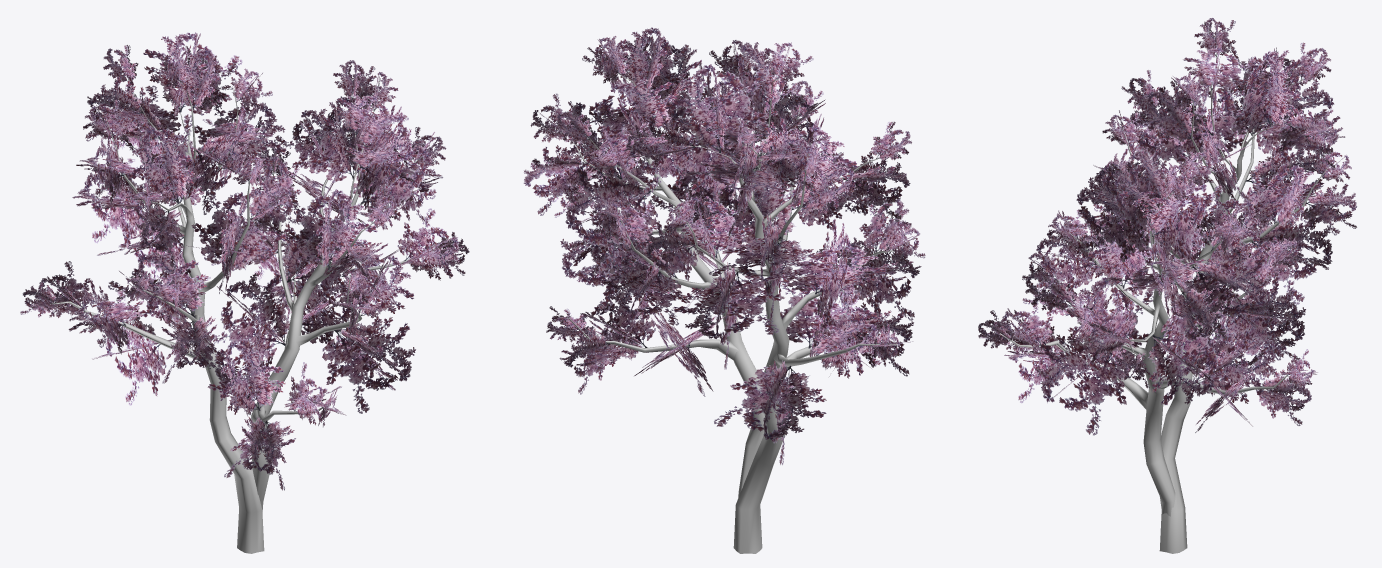
The model's file is TreeWaxCherry-red2.fbx.
The picture shows the model from 3 angles, left to right: view 1: azimuth 30°, elevation 25°; view 2: azimuth 150°, elevation 25°; view 3: azimuth 270°, elevation 25°; orthographic projection. The views are drawn at different scales.
Visible parts, largest first — view 1: TreeWaxCherry-red2_LOD0; view 2: TreeWaxCherry-red2_LOD0; view 3: TreeWaxCherry-red2_LOD0.
Boxes of the visible parts, <box> form: TreeWaxCherry-red2_LOD0: <box>20,32,469,553</box>; TreeWaxCherry-red2_LOD0: <box>523,27,925,553</box>; TreeWaxCherry-red2_LOD0: <box>978,18,1357,553</box>.
Size of what is drawn, in the model's own units: 460 by 553 by 392.
